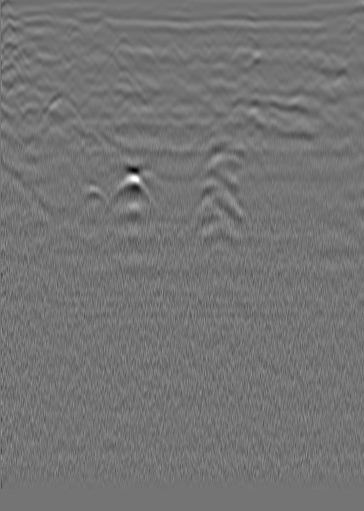가스: (105, 166, 152, 205)
상수: (305, 27, 325, 47)
오수: (33, 18, 53, 38)
우수: (162, 44, 182, 64)
